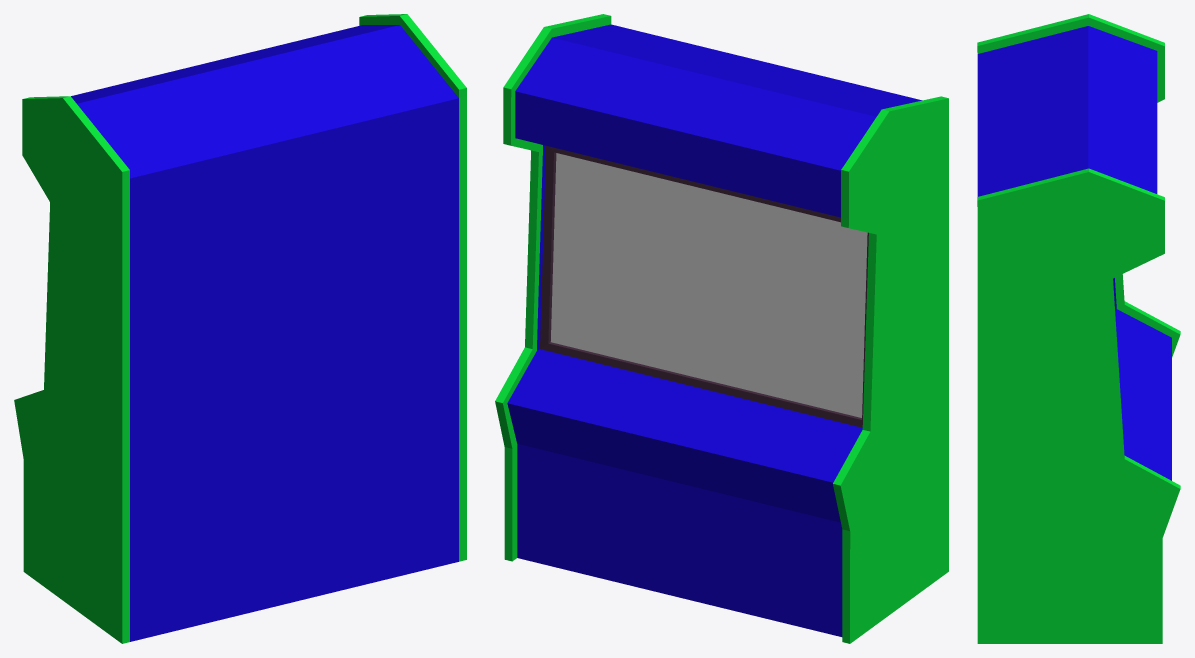
Rendered from big_console.fbx.
3 renders of one model, left to right at view 1: azimuth 30°, elevation 25°; view 2: azimuth 150°, elevation 25°; view 3: azimuth 270°, elevation 25°, orthographic. The views are drawn at different scales.
Parts seen in each view (by area): view 1: Cube.073; view 2: Cube.073; view 3: Cube.073.
Boxes of the visible parts, left/top/right/bottom form: Cube.073: left=14, top=14, right=466, bottom=643; Cube.073: left=495, top=14, right=948, bottom=643; Cube.073: left=977, top=14, right=1180, bottom=643.
Bounding box in the file's own units: 429 × 598 × 233.
